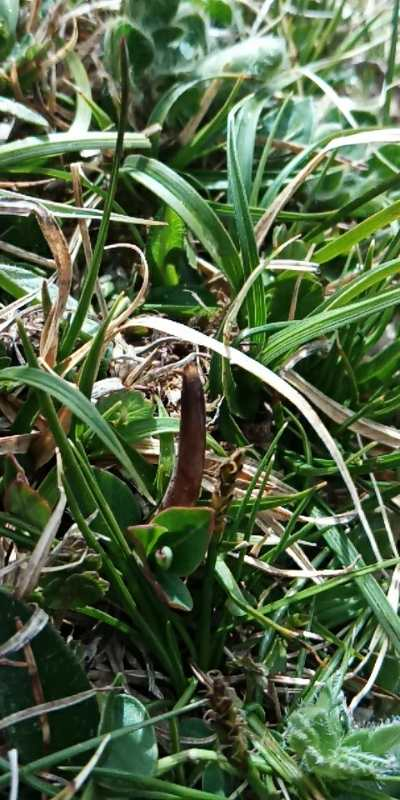cpf: (151, 360, 208, 518)
